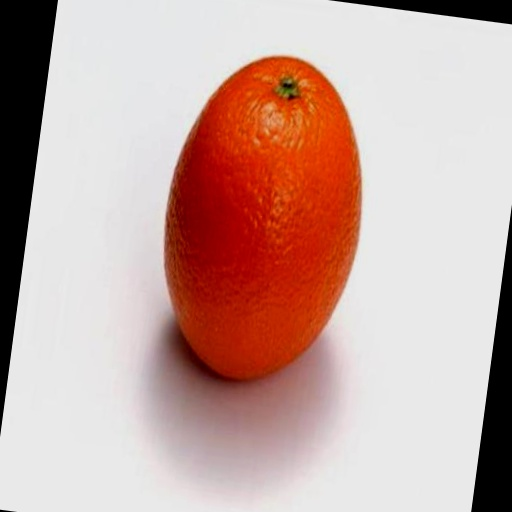fruit: (164, 57, 360, 378)
